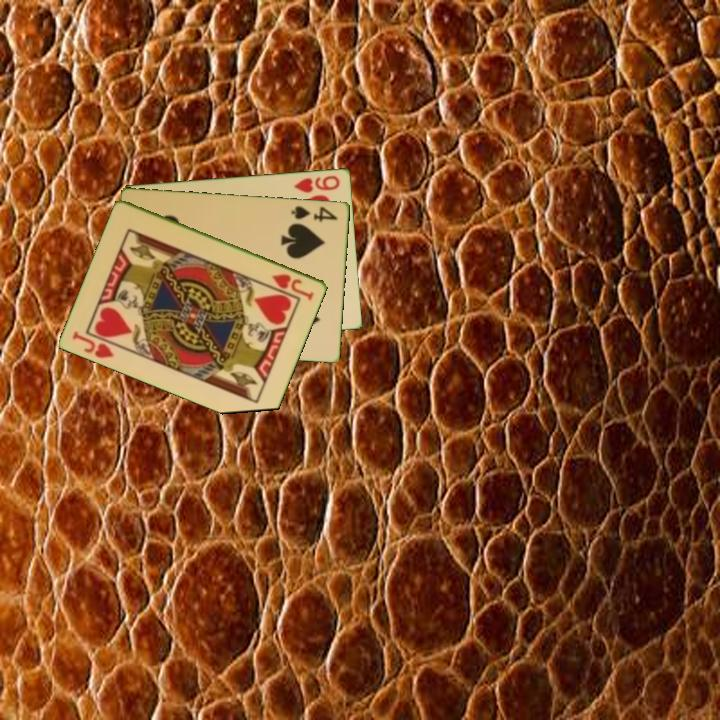4s: (288, 202, 341, 225)
9h: (291, 171, 343, 195)
Jh: (69, 327, 123, 361), (268, 270, 317, 303)
